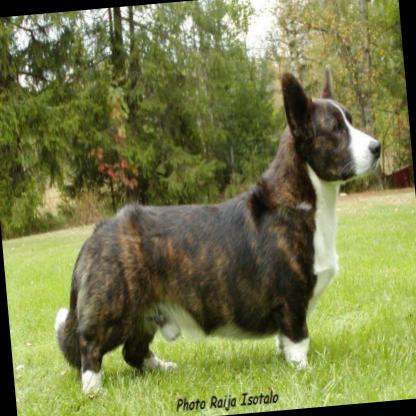Cardigan: (29, 59, 402, 403)
